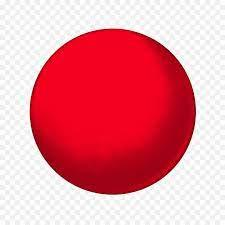red_circle: (18, 18, 209, 207)
